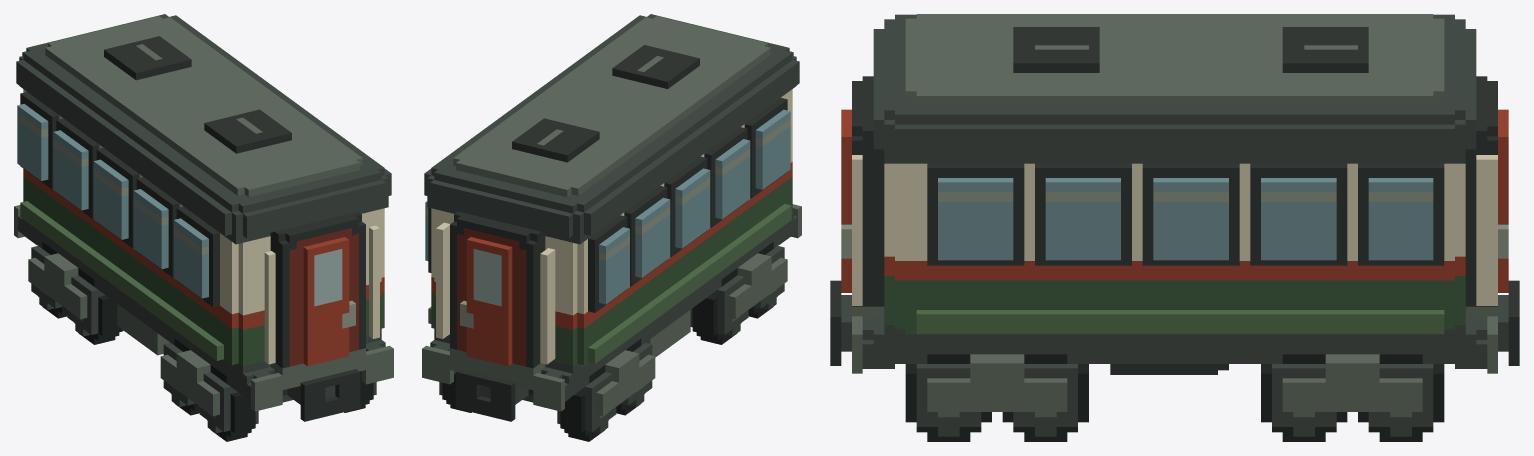
Rendered from passenger_car.glb.
The picture shows the model from 3 angles, left to right: view 1: azimuth 30°, elevation 25°; view 2: azimuth 150°, elevation 25°; view 3: azimuth 270°, elevation 25°; orthographic projection. The views are drawn at different scales.
Visible parts, largest first — view 1: passenger_car; view 2: passenger_car; view 3: passenger_car.
Boxes of the visible parts, x1,y1,x2,y2 form: passenger_car: [14, 14, 393, 441]; passenger_car: [422, 14, 801, 441]; passenger_car: [830, 14, 1519, 441].
Size of the model in its own units: 3.38 by 4.68 by 8.32.
